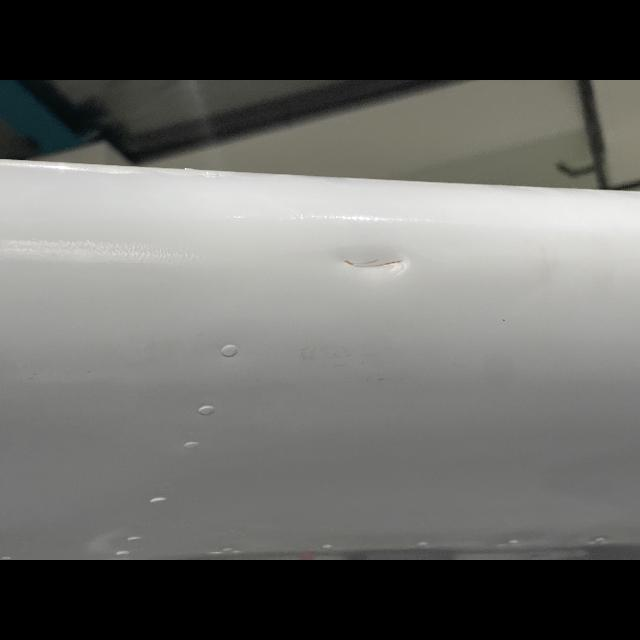dent: (318, 238, 430, 280)
